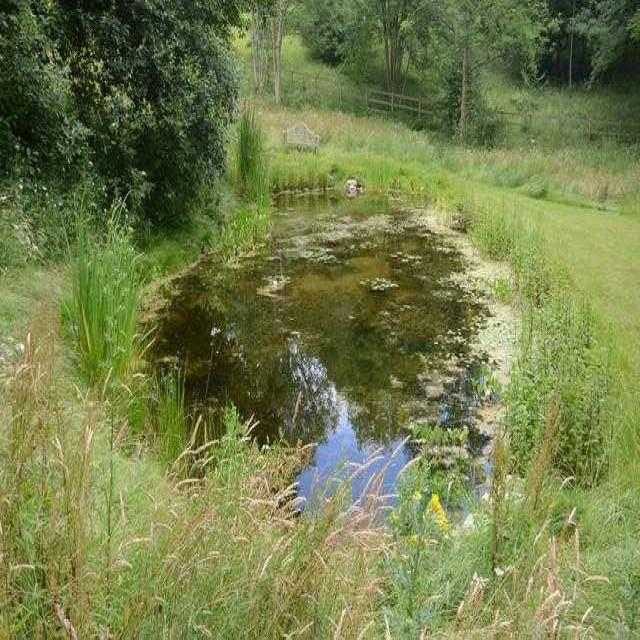Ponds: (137, 181, 539, 534)
